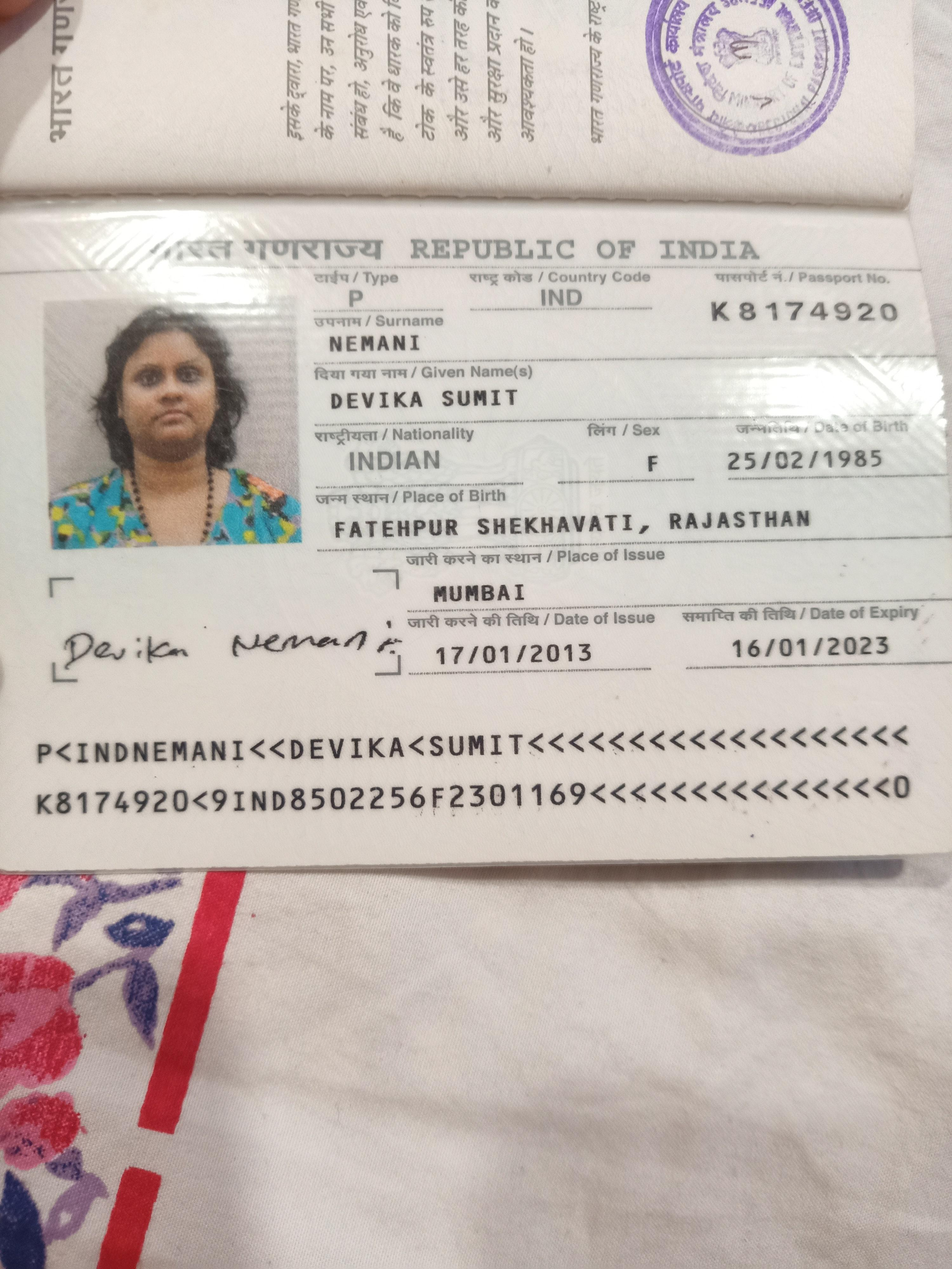DOB: (721, 442, 907, 477)
Surname: (321, 328, 439, 356)
country_code: (530, 283, 599, 315)
date_of_expiry: (727, 628, 894, 667)
date_of_issue: (432, 636, 604, 680)
details: (18, 728, 921, 818)
name: (314, 385, 531, 415)
nationality: (337, 445, 474, 479)
passport_no: (702, 292, 911, 337)
photo: (43, 297, 296, 539)
place_of_birth: (328, 504, 819, 534)
place_of_issue: (427, 573, 535, 612)
sex: (637, 446, 669, 481)
sign: (61, 614, 385, 681)
type: (336, 284, 381, 312)
